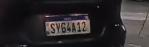Placa_mercosul_carro: (46, 14, 91, 35)
